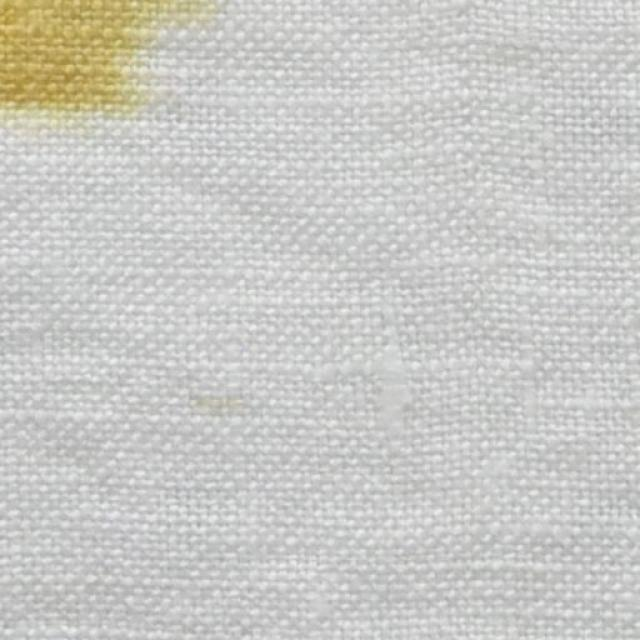Stain: (0, 0, 216, 130)
